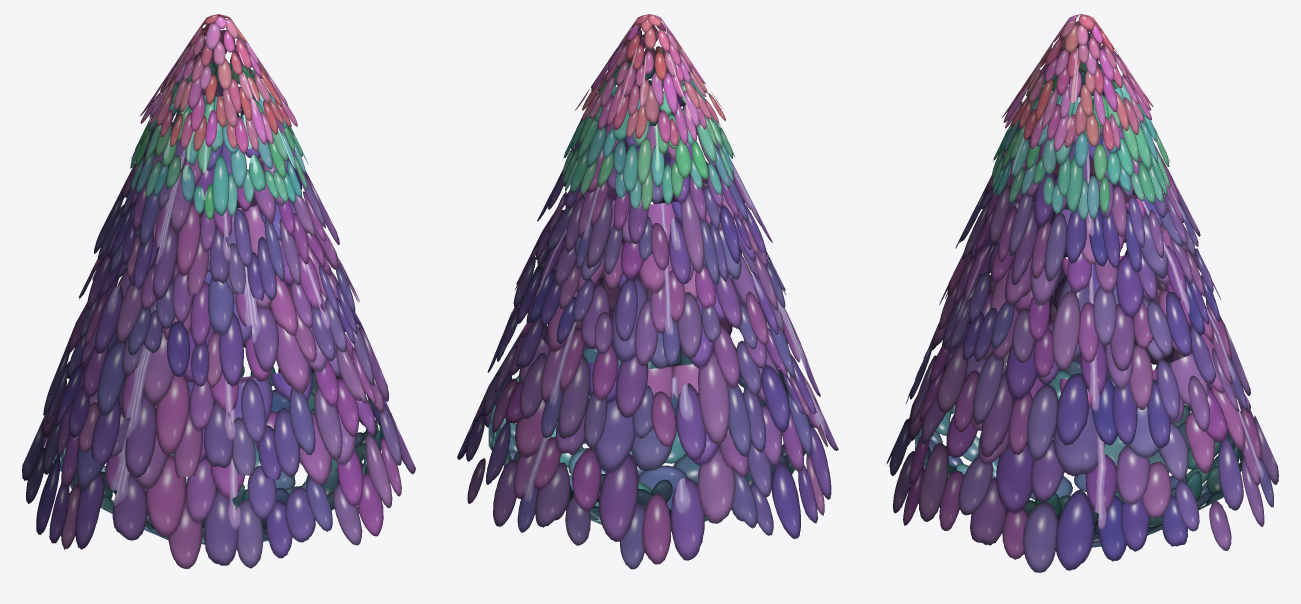
File: bushes_03.fbx
The picture shows the model from 3 angles, left to right: view 1: azimuth 30°, elevation 25°; view 2: azimuth 150°, elevation 25°; view 3: azimuth 270°, elevation 25°; orthographic projection. The views are drawn at different scales.
Visible parts, largest first — view 1: bushes_03; view 2: bushes_03; view 3: bushes_03.
Part boxes in pixels (box(x1,y1,x2,y2)): bushes_03: box(22, 14, 415, 568); bushes_03: box(457, 14, 838, 569); bushes_03: box(886, 14, 1278, 572).
Bounding box in the file's own units: 426 × 590 × 426.
